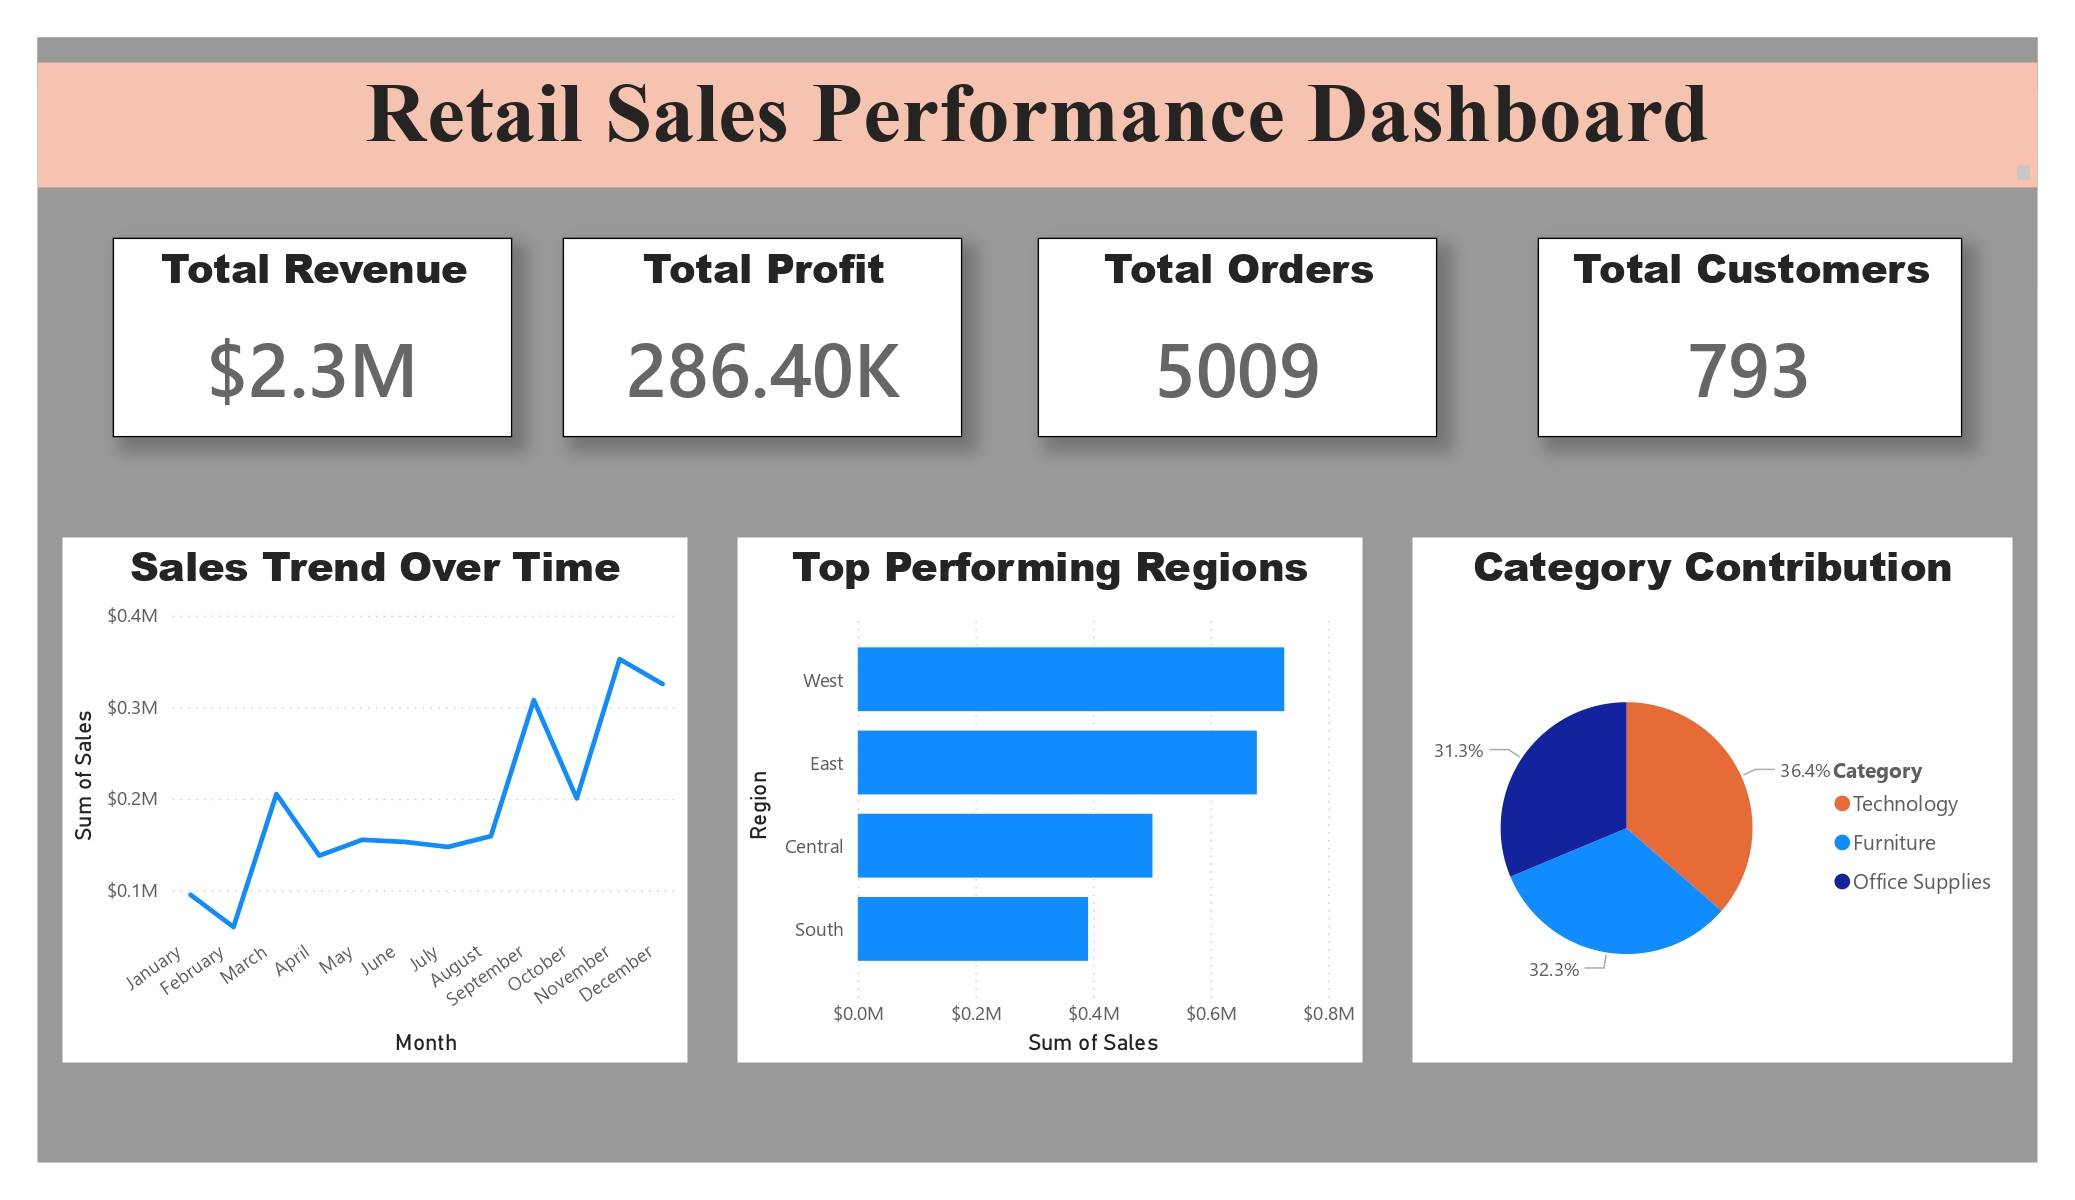

This screenshot's page, from the dashboard's own definition file:
{"tool":"powerbi","page":{"name":"Retail Sales Dashboard","canvas":[1280,720],"ordinal":0},"visuals":[{"type":"lineChart","title":"Sales Trend Over Time","fields":{"Y":["Sum(cleaned_superstore.Sales)"],"Category":["cleaned_superstore.Order Date.Variation.Date Hierarchy.Year","cleaned_superstore.Order Date.Variation.Date Hierarchy.Month"]},"box":[16,320,400,336],"z":0},{"type":"card","title":"Total Revenue","fields":{"Values":["Sum(cleaned_superstore.Sales)"]},"box":[48,128,256,128],"z":1000},{"type":"card","title":"Total Profit","fields":{"Values":["Sum(cleaned_superstore.Profit)"]},"box":[336,128,256,128],"z":2000},{"type":"card","title":"Total Customers","fields":{"Values":["cleaned_superstore.Total Customers"]},"box":[960,128,272,128],"z":3000},{"type":"card","title":"Total Orders","fields":{"Values":["cleaned_superstore.Total Orders"]},"box":[640,128,256,128],"z":4000},{"type":"clusteredBarChart","title":"Top Performing Regions","fields":{"Category":["cleaned_superstore.Region"],"Y":["Sum(cleaned_superstore.Sales)"]},"box":[448,320,400,336],"z":5000},{"type":"pieChart","title":"Category Contribution","fields":{"Category":["cleaned_superstore.Category"],"Y":["Sum(cleaned_superstore.Sales)"]},"box":[880,320,384,336],"z":6000},{"type":"textbox","title":"Retail Sales Performance Dashboard","box":[0,16,1280,80],"z":7000}]}

Visuals, with their boxes on the page's 1280x720 design canvas (x1, y1, x2, y2). These are canvas units, not pixel positions in the 2075x1200 screenshot, which may show the page scaled, cropped or inside an application window:
"Sales Trend Over Time" lineChart: 16 320 416 656
"Total Revenue" card: 48 128 304 256
"Total Profit" card: 336 128 592 256
"Total Customers" card: 960 128 1232 256
"Total Orders" card: 640 128 896 256
"Top Performing Regions" clusteredBarChart: 448 320 848 656
"Category Contribution" pieChart: 880 320 1264 656
"Retail Sales Performance Dashboard" textbox: 0 16 1280 96
